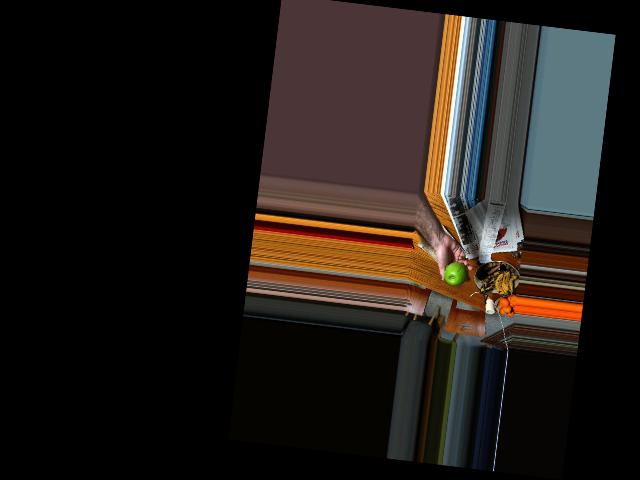apple: (441, 261, 468, 287)
